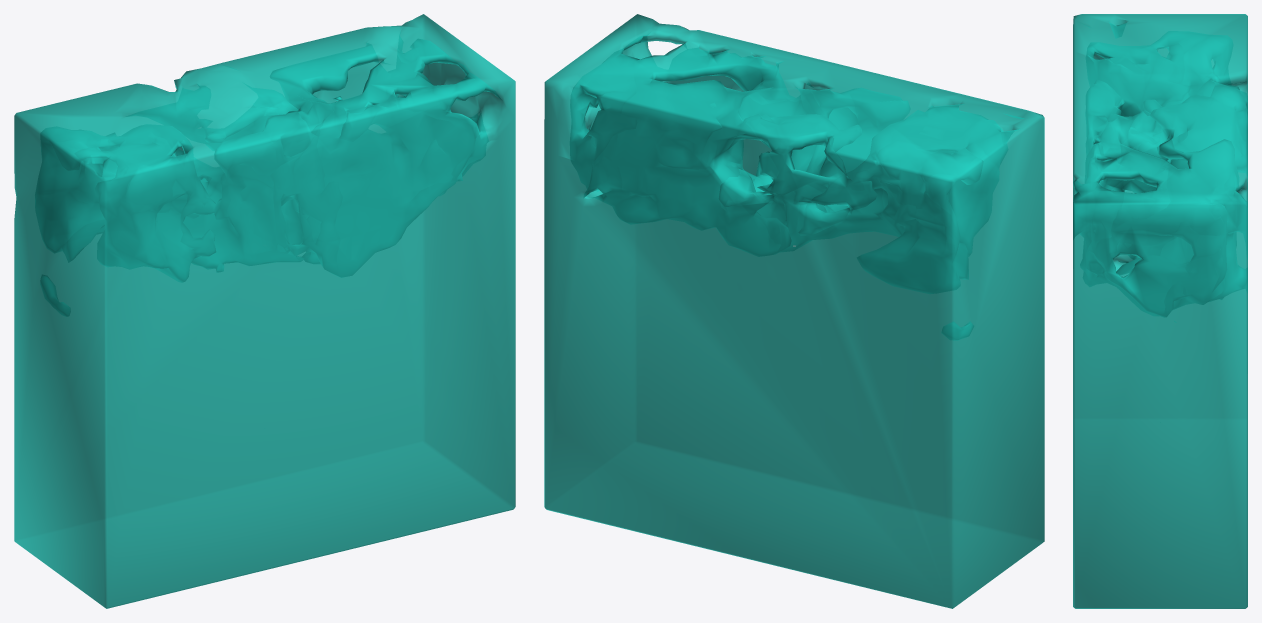
3 views of the same model, side by side, from view 1: azimuth 30°, elevation 25°; view 2: azimuth 150°, elevation 25°; view 3: azimuth 270°, elevation 25° (orthographic). The views are drawn at different scales.
Visible parts, largest first — view 1: Liquid_Domain; view 2: Liquid_Domain; view 3: Liquid_Domain.
Part boxes in pixels (x1,y1,x2,y2): Liquid_Domain: [14, 14, 515, 608]; Liquid_Domain: [544, 14, 1044, 608]; Liquid_Domain: [1073, 14, 1247, 608].
Bounding box in the file's own units: 884 × 884 × 344.
